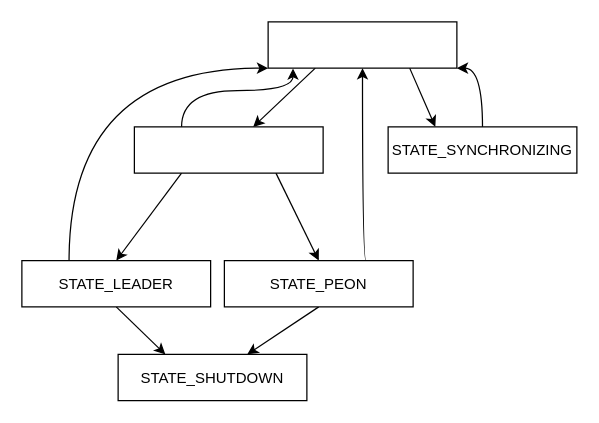
The diagram is 599 pixels wide and 423 high, and some of its shapes have lost their labels. The centre of each missing label's shape, as x and y in pixels:
STATE_ELECTING: (228,149)
STATE_PROBING: (362,44)
